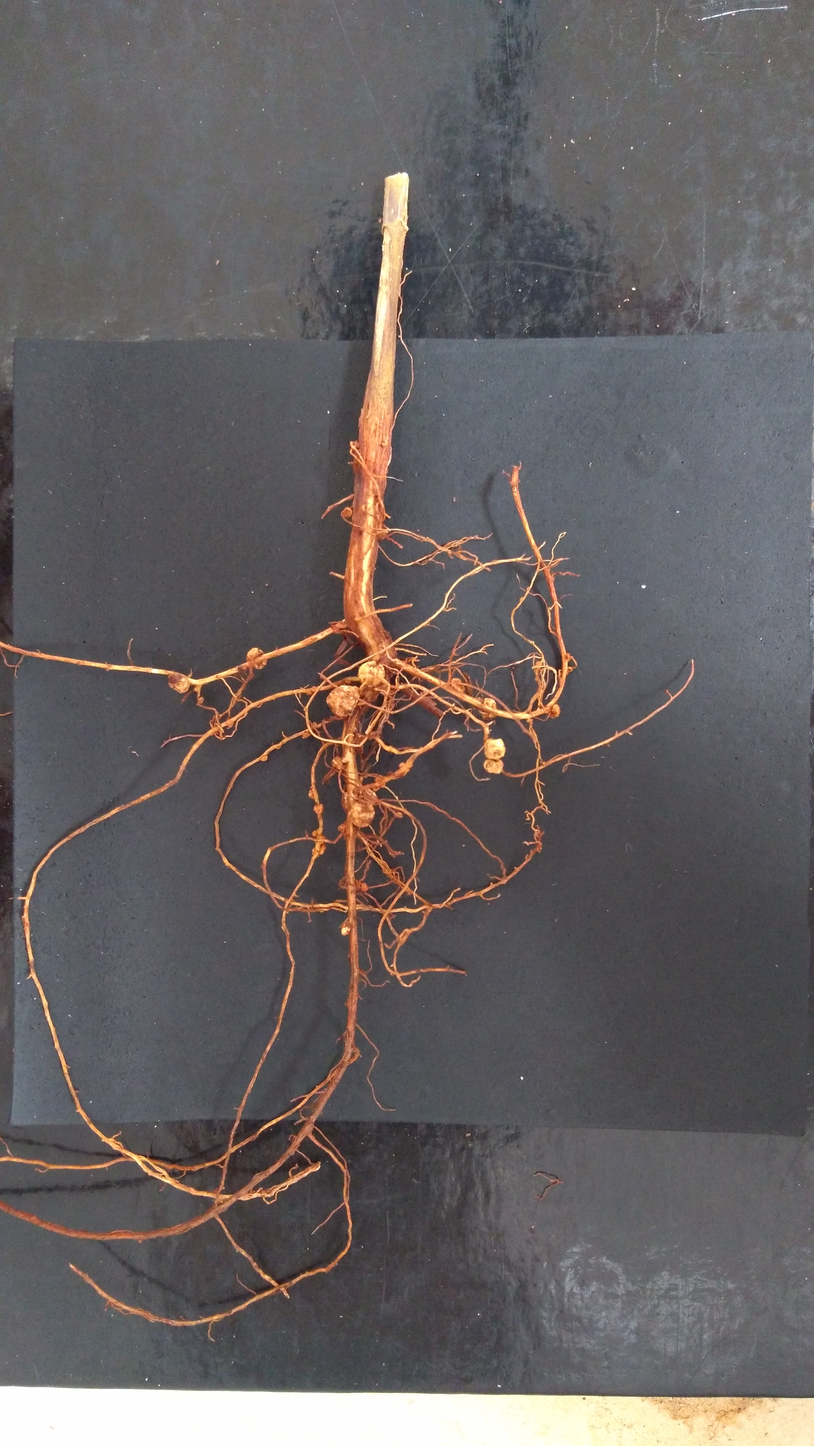nodule: (324, 684, 361, 718), (340, 785, 379, 811), (346, 800, 377, 829), (357, 659, 386, 687), (166, 671, 192, 696), (245, 647, 268, 671), (483, 737, 507, 759), (479, 696, 498, 721), (483, 758, 506, 775), (331, 755, 347, 771), (450, 677, 465, 693), (397, 761, 411, 776), (340, 921, 351, 939), (374, 775, 386, 789), (311, 804, 325, 815), (340, 506, 353, 517), (318, 841, 327, 856), (550, 704, 560, 717), (435, 883, 444, 895), (196, 695, 205, 706), (336, 822, 345, 833), (307, 789, 315, 800), (302, 731, 311, 740), (261, 754, 269, 762), (311, 829, 317, 838), (311, 848, 316, 856), (312, 721, 317, 728)
